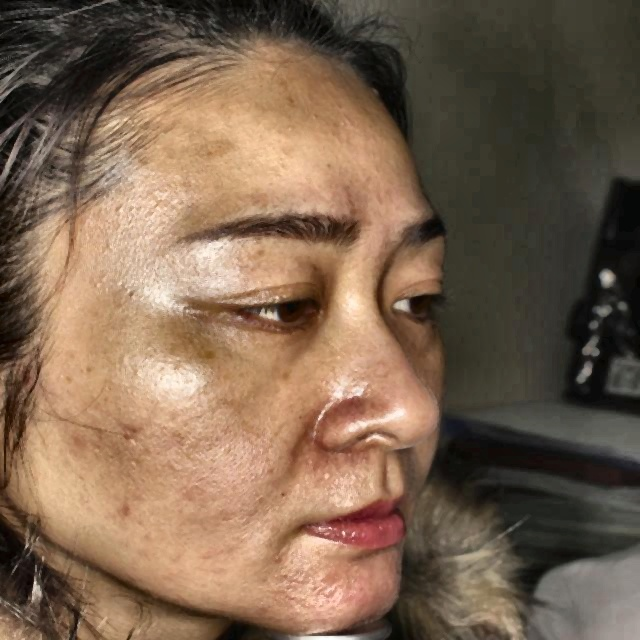comedone: (64, 425, 94, 461), (119, 417, 142, 452), (112, 496, 139, 522)
